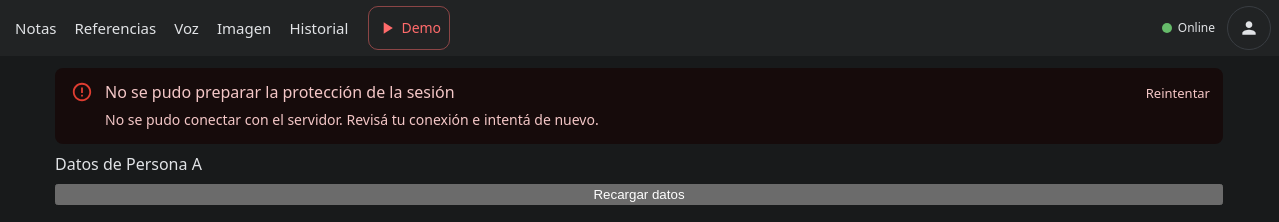
Test case: Sesión en el shell › si falla el CSRF lo explica, mantiene deshabilitado el cierre y permite reintentar
Expected: the text "No se pudo preparar la protección de la sesión" is shown, [105,81,455,103]
Click the button named "Cuenta de Persona A": (1249,28) [1227,6,1271,50]
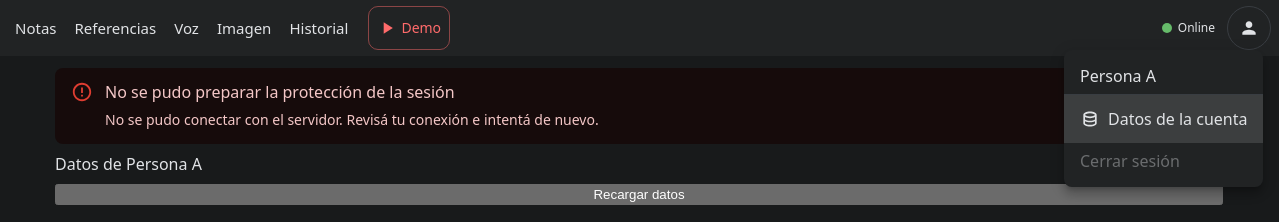
Press Escape
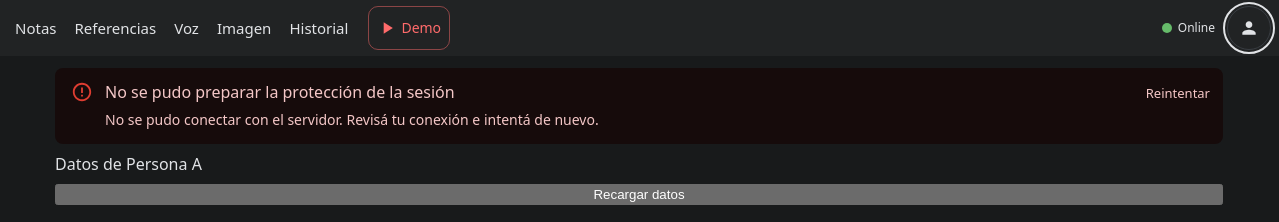
Now the menu is gone
Click the button "Reintentar": (1178,93) [1141,78,1215,109]
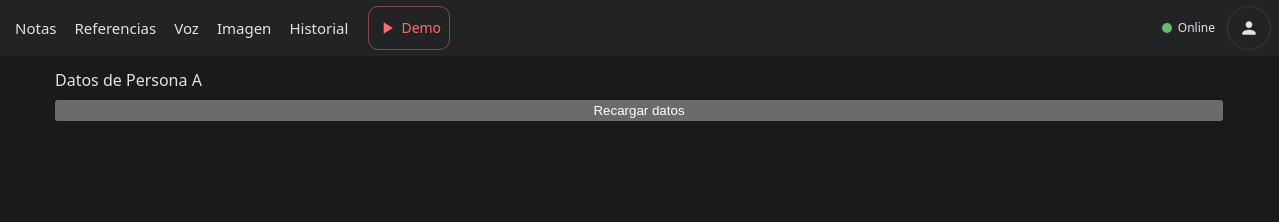
Click the button named "Cuenta de ": (1249,28) [1227,6,1271,50]
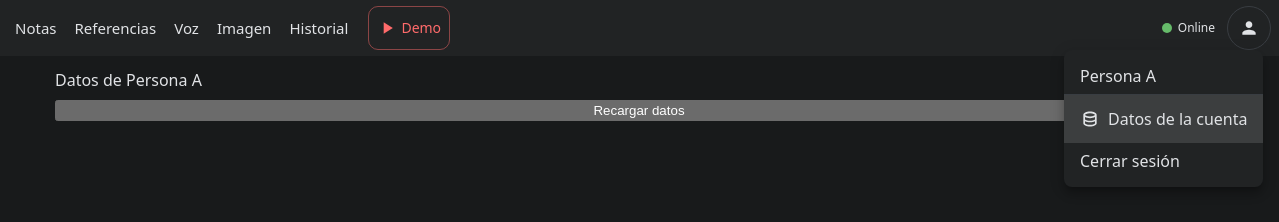
Now the menu item "Cerrar sesión" does not have attribute aria-disabled="true", box [1080,150,1180,172]
